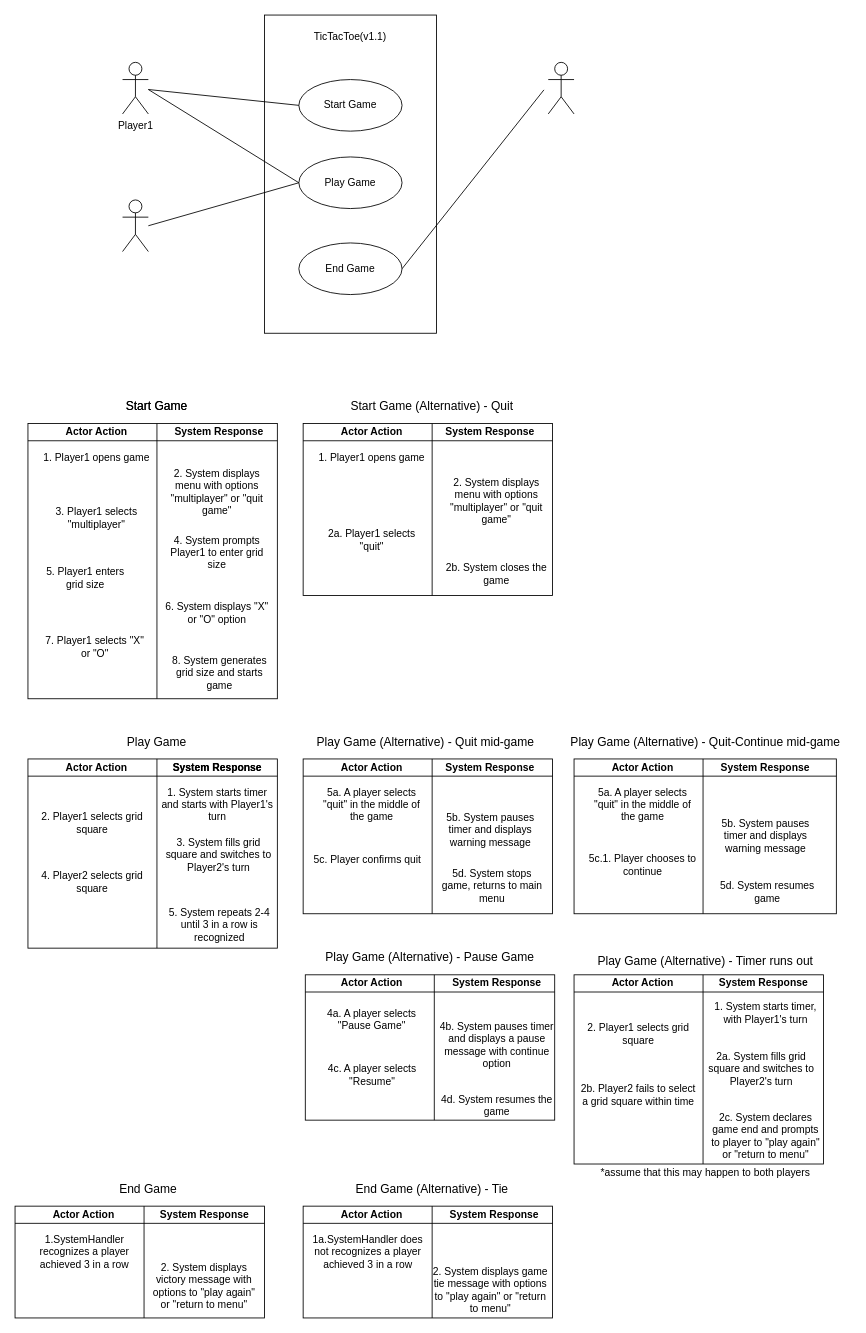
Some shapes in this 866 by 1333 pixel diagram are drawn without their labels. Here are the shapes that lost their labels. From the top down, the box of each, then its label:
(547, 61, 574, 114): SystemHandler
(122, 199, 148, 252): Player2
